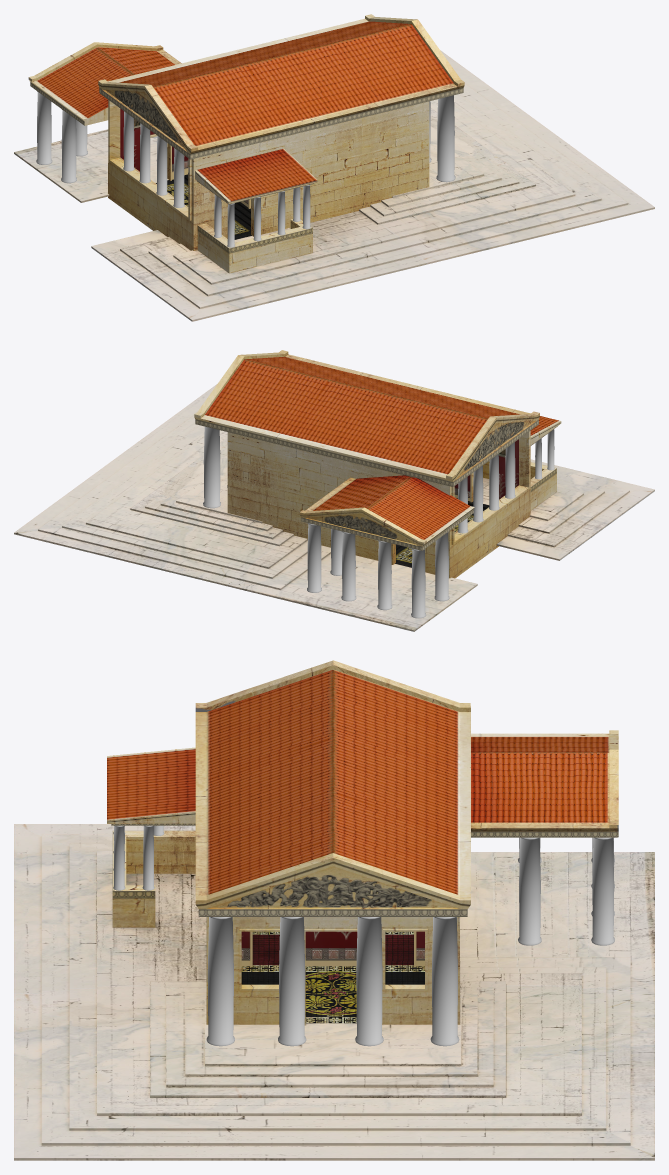
The model's file is Budynek005.fbx.
3 renders of one model, top to bottom at view 1: azimuth 30°, elevation 25°; view 2: azimuth 150°, elevation 25°; view 3: azimuth 270°, elevation 25°, orthographic. The views are drawn at different scales.
Parts seen in each view (by area): view 1: Object020, Object06, Object02, Circle.000, Circle.013, Circle.016, Circle.009, Circle.011, Circle.010, Circle.003; view 2: Object020, Object06, Object02, Circle.046, Circle.012, Circle.013, Circle.014, Circle.015, Circle.016, Circle.011, Circle.009, Circle.010 (+1 smaller); view 3: Object020, Object06, Object02, Circle.002, Circle.001, Circle.000, Circle.046, Circle.012, Circle.017, Circle.004, Circle.848.
Part boxes in pixels (bbox=[...]): Object020: bbox=[14, 50, 654, 321]; Object06: bbox=[28, 14, 464, 204]; Object02: bbox=[108, 100, 429, 273]; Circle.000: bbox=[436, 95, 455, 182]; Circle.013: bbox=[36, 91, 52, 164]; Circle.016: bbox=[61, 109, 76, 183]; Circle.009: bbox=[139, 123, 150, 183]; Circle.011: bbox=[173, 148, 184, 207]; Circle.010: bbox=[156, 136, 167, 195]; Circle.003: bbox=[123, 111, 134, 171]; Object020: bbox=[14, 384, 654, 631]; Object06: bbox=[194, 350, 561, 550]; Object02: bbox=[227, 431, 556, 578]; Circle.046: bbox=[203, 426, 220, 508]; Circle.012: bbox=[307, 523, 321, 592]; Circle.013: bbox=[411, 548, 426, 618]; Circle.014: bbox=[377, 540, 392, 610]; Circle.015: bbox=[341, 531, 356, 601]; Circle.016: bbox=[434, 531, 449, 601]; Circle.011: bbox=[505, 442, 515, 498]; Circle.009: bbox=[473, 465, 483, 522]; Circle.010: bbox=[489, 454, 499, 510]; Object020: bbox=[14, 824, 654, 1160]; Object06: bbox=[107, 660, 618, 916]; Object02: bbox=[112, 830, 459, 1025]; Circle.002: bbox=[355, 917, 383, 1046]; Circle.001: bbox=[278, 917, 306, 1046]; Circle.000: bbox=[206, 917, 234, 1046]; Circle.046: bbox=[430, 917, 459, 1046]; Circle.012: bbox=[591, 837, 614, 945]; Circle.017: bbox=[518, 837, 541, 945]; Circle.004: bbox=[142, 825, 154, 890]; Circle.848: bbox=[113, 825, 125, 890].
Size of the model in its own units: 53.09 by 15.84 by 43.07.
